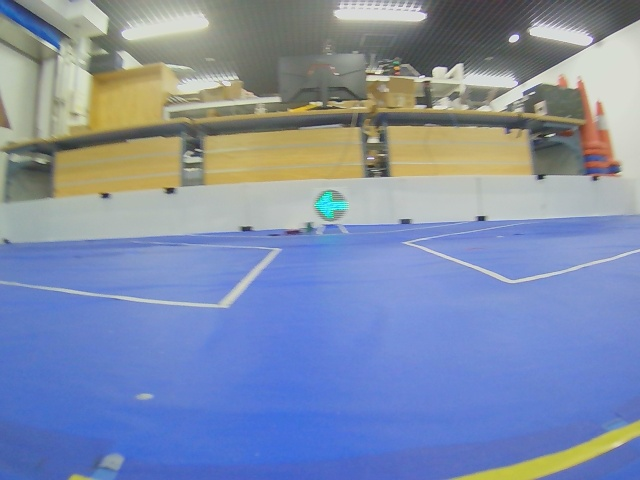left_green: (314, 190, 349, 222)
